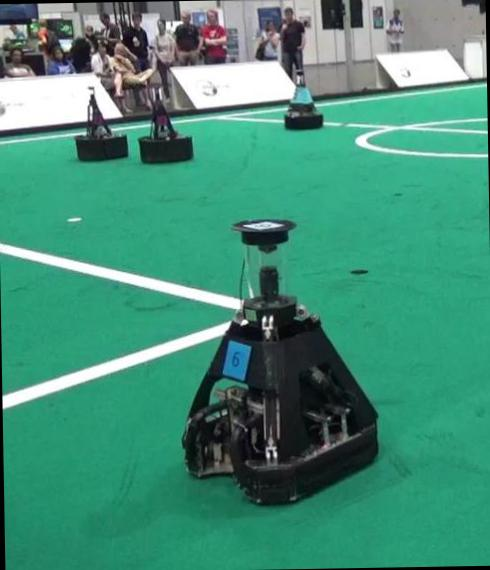robot: (182, 219, 378, 504), (138, 87, 192, 163), (74, 87, 127, 161), (284, 69, 322, 128)
